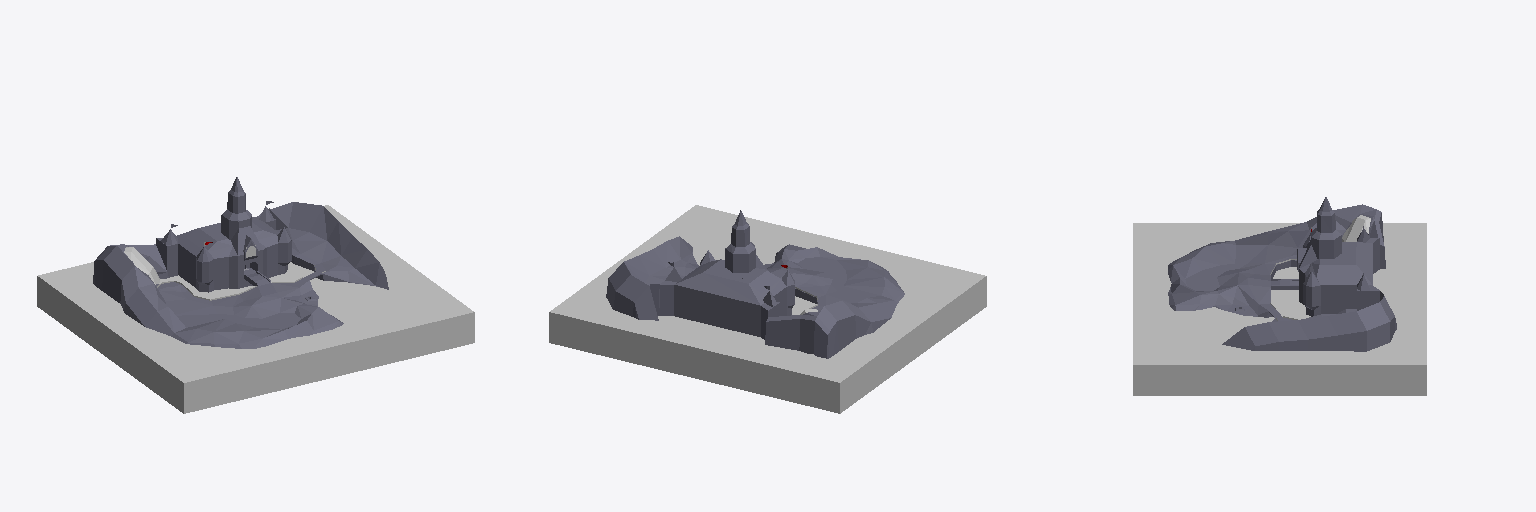
File: princessCastle.obj
3 renders of one model, left to right at view 1: azimuth 30°, elevation 25°; view 2: azimuth 150°, elevation 25°; view 3: azimuth 270°, elevation 25°, orthographic.
Visible parts, largest first — view 1: water, thyCastle; view 2: water, thyCastle; view 3: water, thyCastle.
Boxes of the visible parts, x1,y1,x2,y2 form: water: [37, 205, 474, 413]; thyCastle: [93, 177, 388, 348]; water: [549, 205, 986, 413]; thyCastle: [606, 210, 904, 358]; water: [1133, 223, 1426, 395]; thyCastle: [1168, 197, 1396, 351].
Size of the model in its own units: 23.39 by 10.6 by 20.43.